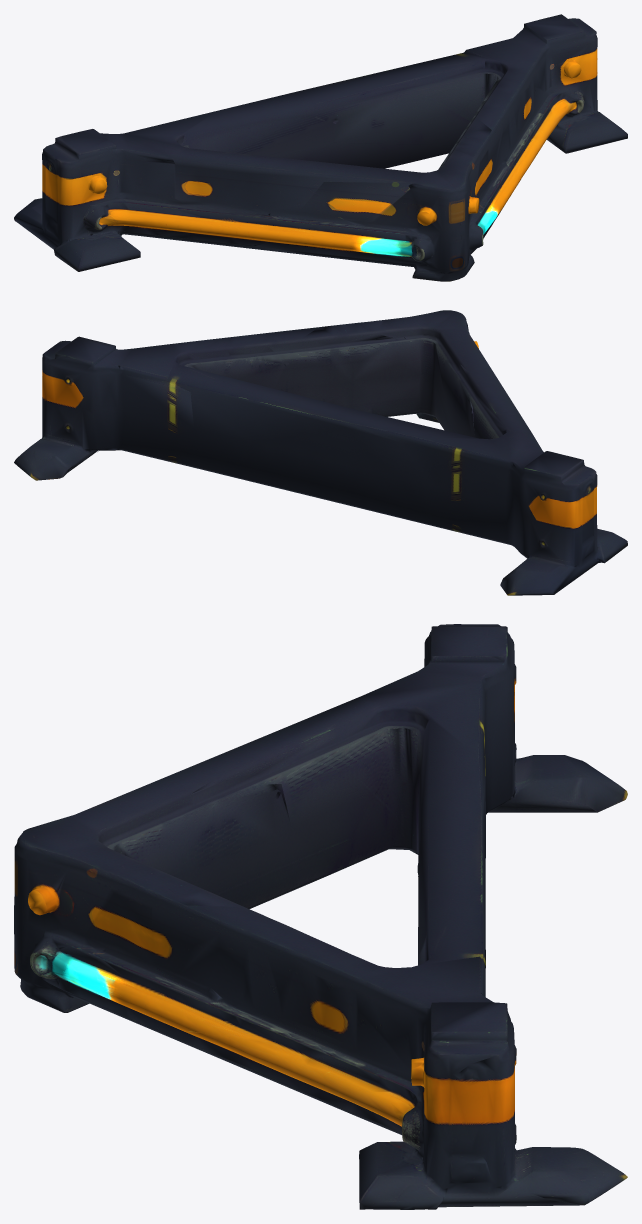
The picture shows the model from 3 angles, top to bottom: view 1: azimuth 30°, elevation 25°; view 2: azimuth 150°, elevation 25°; view 3: azimuth 270°, elevation 25°; orthographic projection. The views are drawn at different scales.
Bounding box in the file's own units: 1.9 × 0.3212 × 1.12.
Materials: 1 (1 with a texture image).
